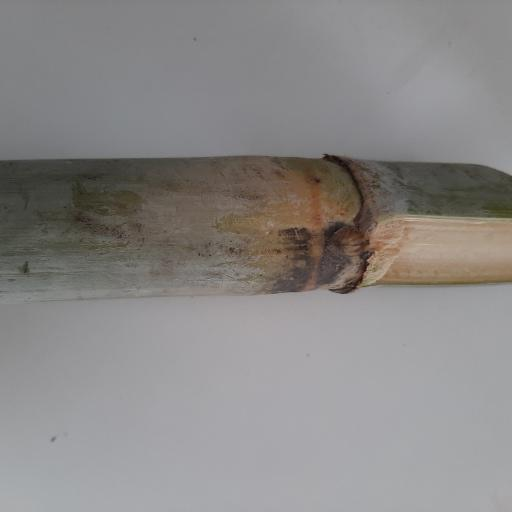Bud: (328, 225, 365, 254)
